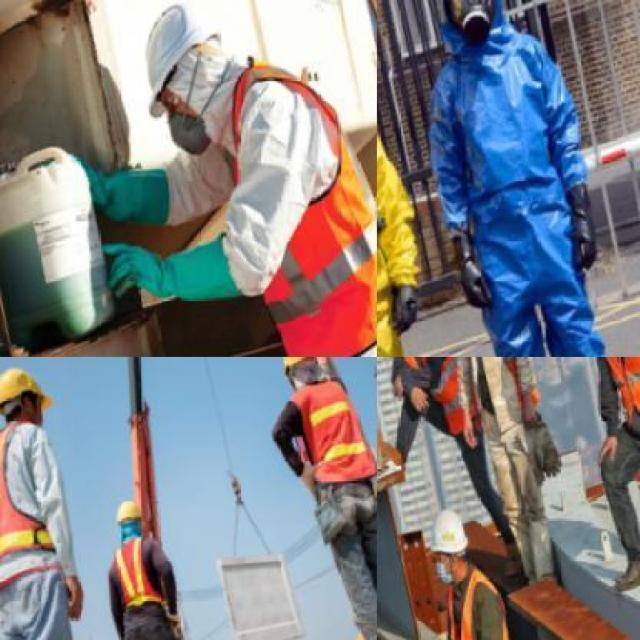Vest: (394, 9, 638, 356), (177, 32, 375, 356), (377, 92, 492, 356), (277, 366, 375, 519), (0, 403, 82, 585), (377, 357, 488, 469), (436, 357, 552, 437), (432, 564, 536, 638), (106, 531, 177, 632), (578, 357, 638, 457)
